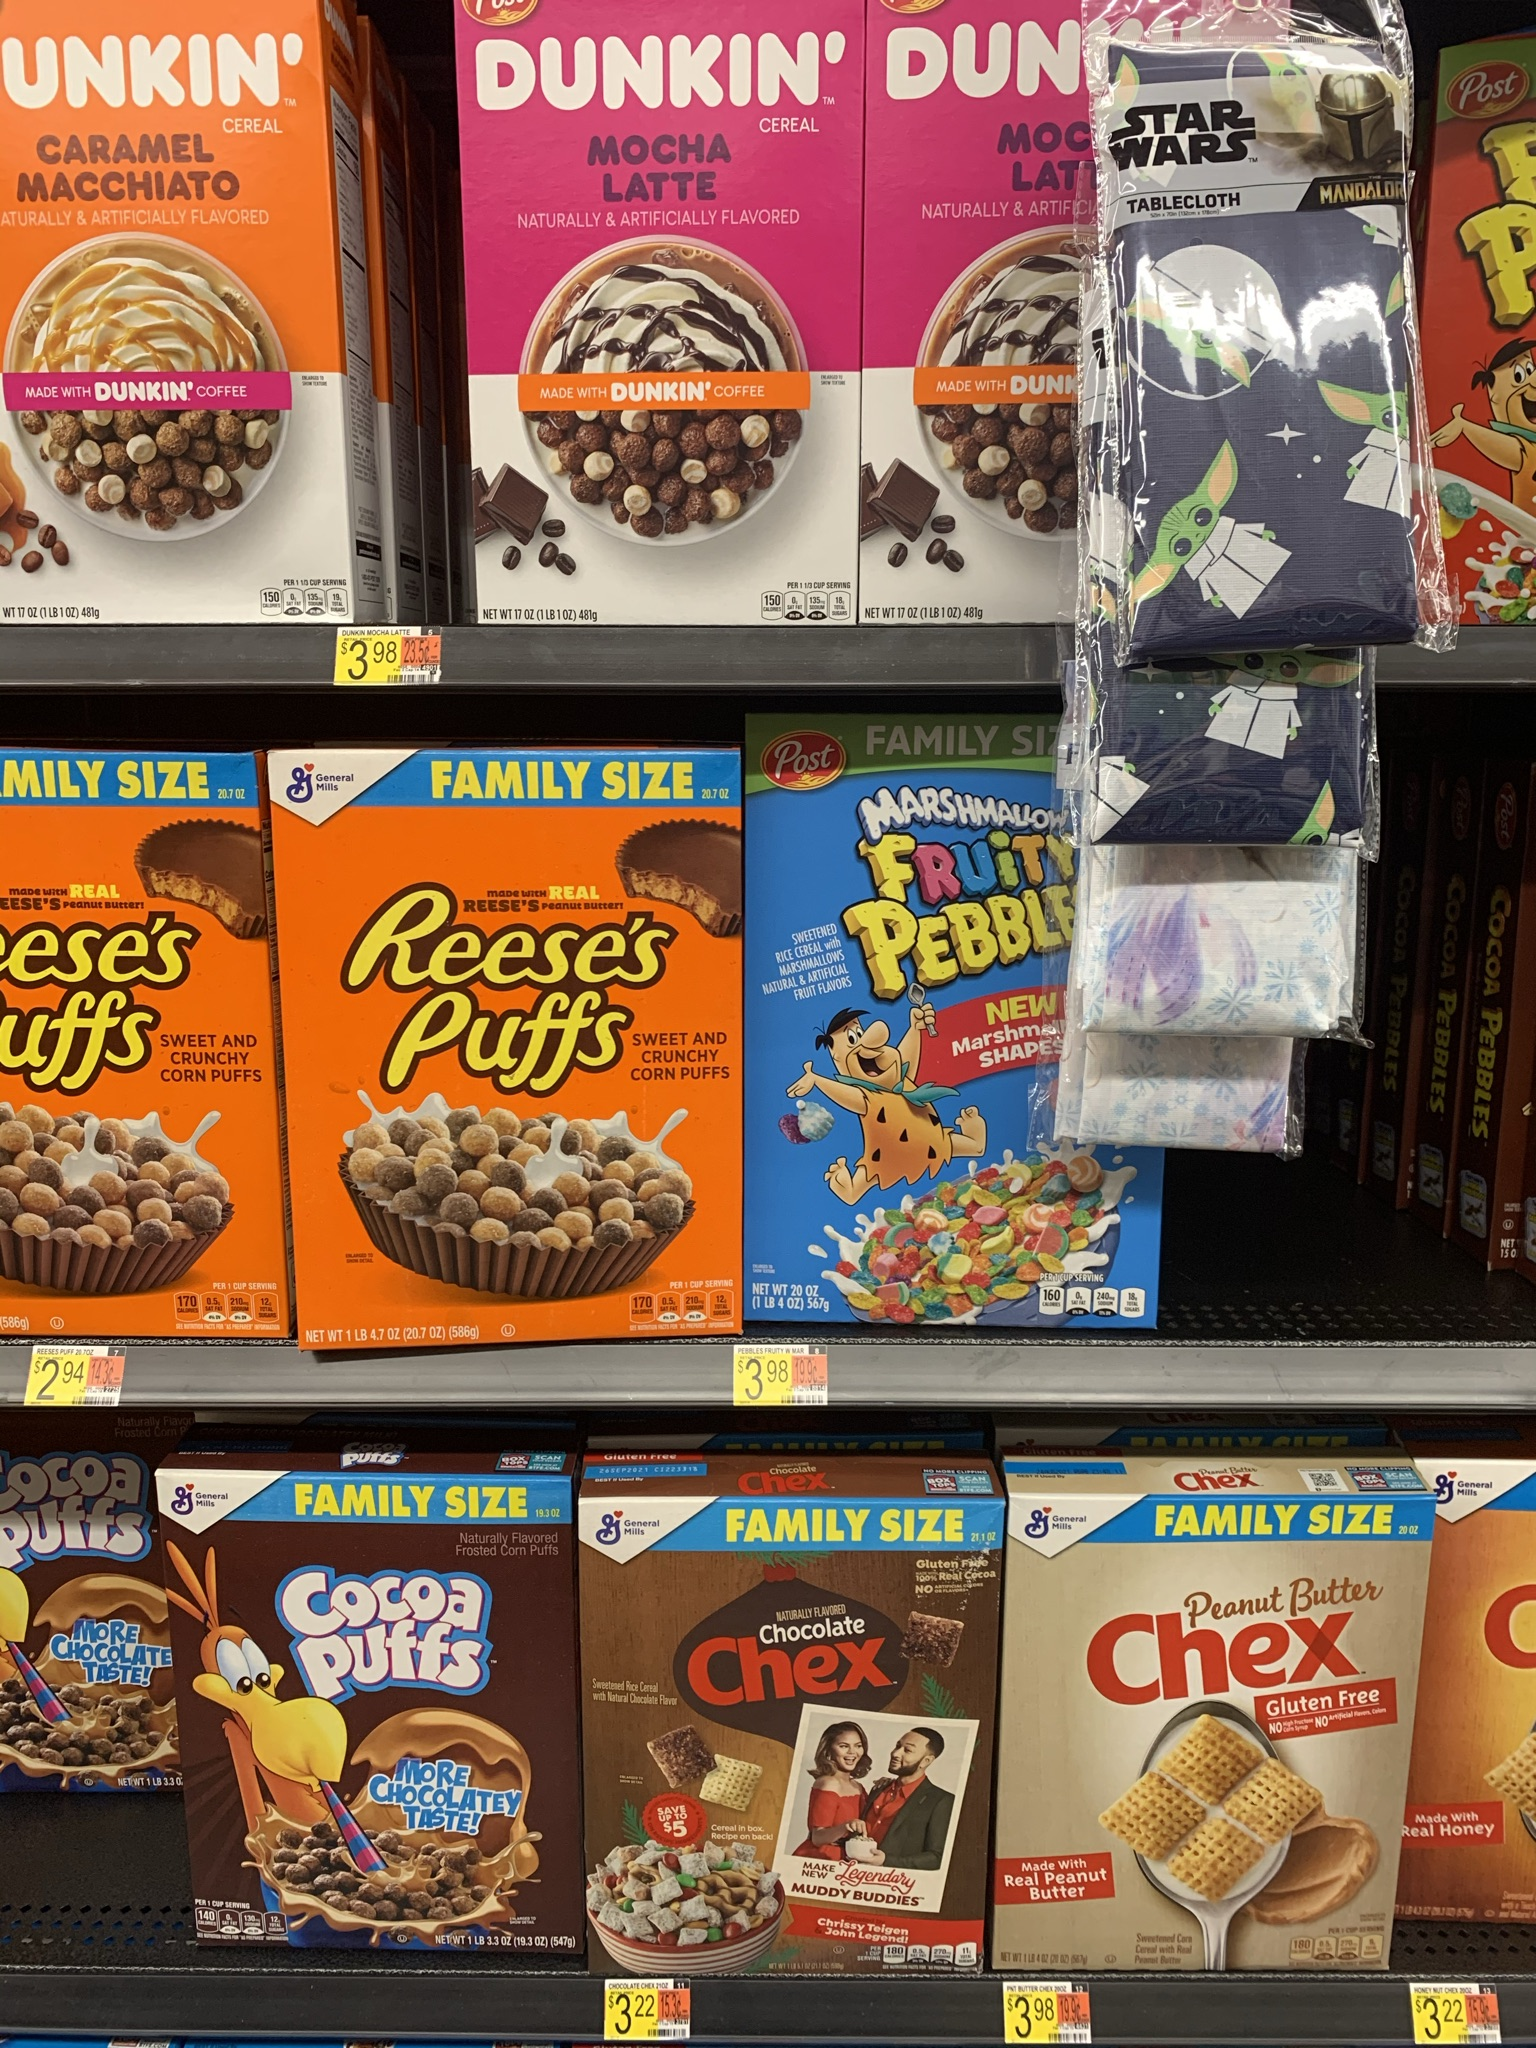Cereal Chex: (1028, 1488, 1404, 1980), (607, 1493, 1016, 1930)
Cereal dunkin: (470, 16, 857, 606), (3, 15, 342, 590), (883, 19, 1099, 597)
Cereal reese: (269, 761, 749, 1335), (3, 771, 260, 1347)
Cereals fruity pebbles: (757, 726, 1094, 1311)
cereal cocoa puff: (160, 1492, 565, 1974)
